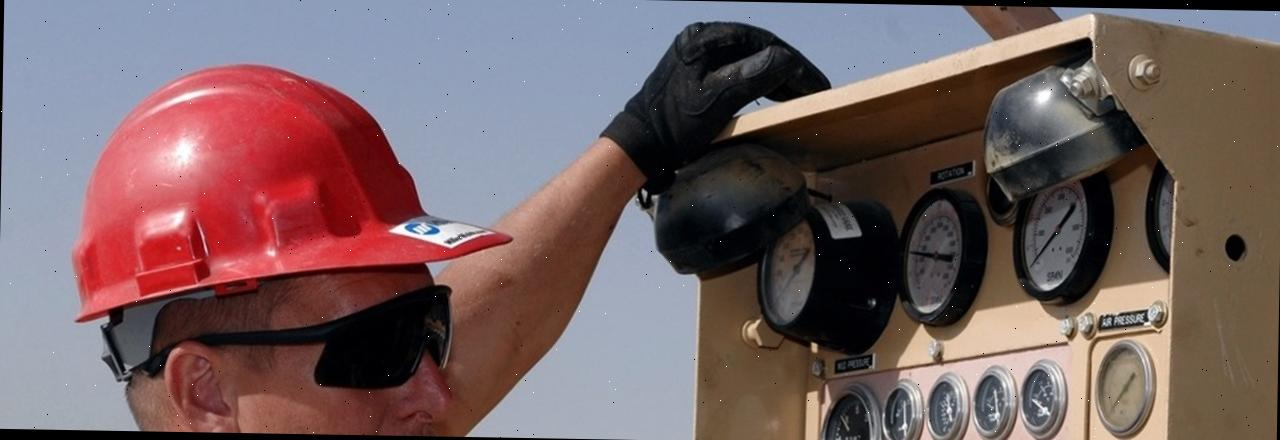helmet: (71, 54, 522, 340)
